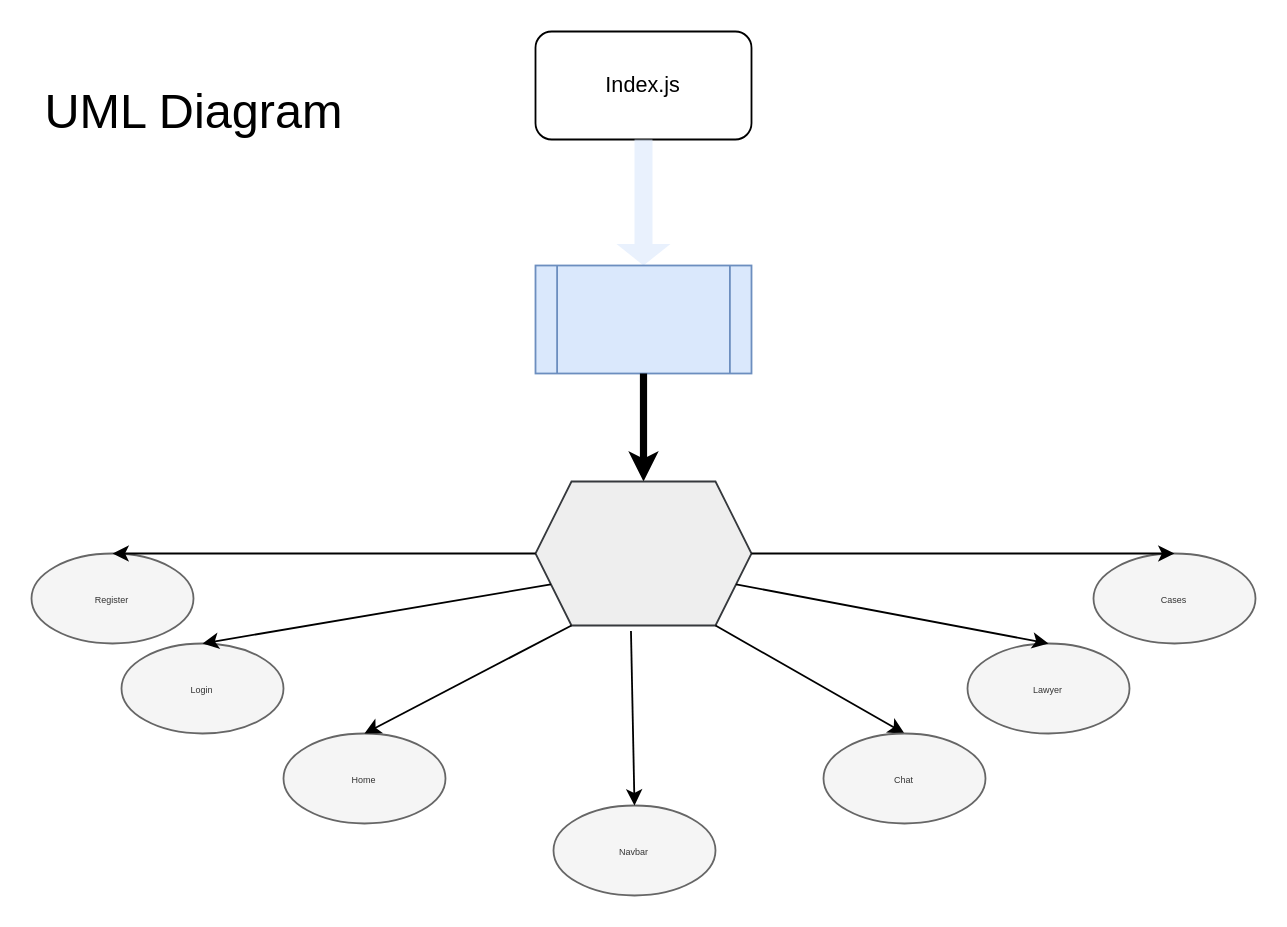
Image size: 1287x927. Some labels were removed from this diagram. The centre of each missing label's shape, as x and y in pixels:
"App.js" belongs at point 643,319.
"Component" belongs at point 643,553.
